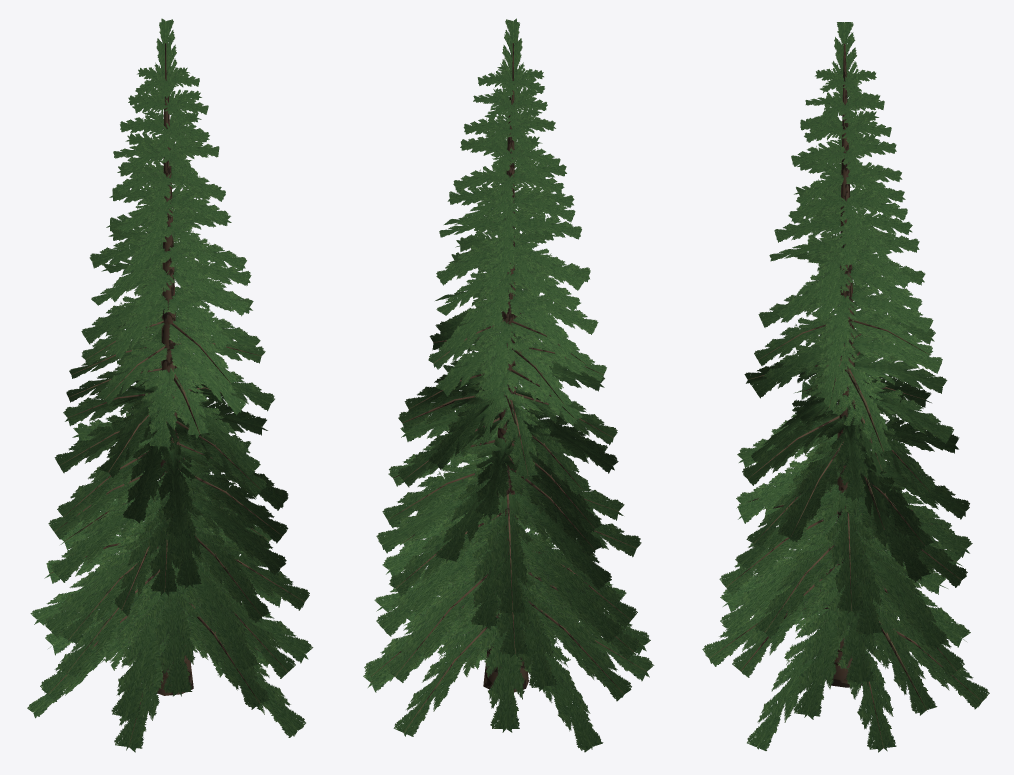
Rendered from spruce2_lod0.fbx.
3 renders of one model, left to right at view 1: azimuth 30°, elevation 25°; view 2: azimuth 150°, elevation 25°; view 3: azimuth 270°, elevation 25°, orthographic. The views are drawn at different scales.
Parts seen in each view (by area): view 1: spruce2_lod0; view 2: spruce2_lod0; view 3: spruce2_lod0.
Part boxes in pixels (bbox=[...]): spruce2_lod0: bbox=[27, 18, 313, 752]; spruce2_lod0: bbox=[363, 18, 654, 752]; spruce2_lod0: bbox=[702, 22, 989, 752].
Bounding box in the file's own units: 6.41 × 16.3 × 6.48.
Materials: 2 (2 with a texture image).
